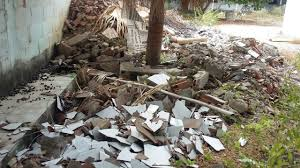rubble: (60, 3, 289, 159)
